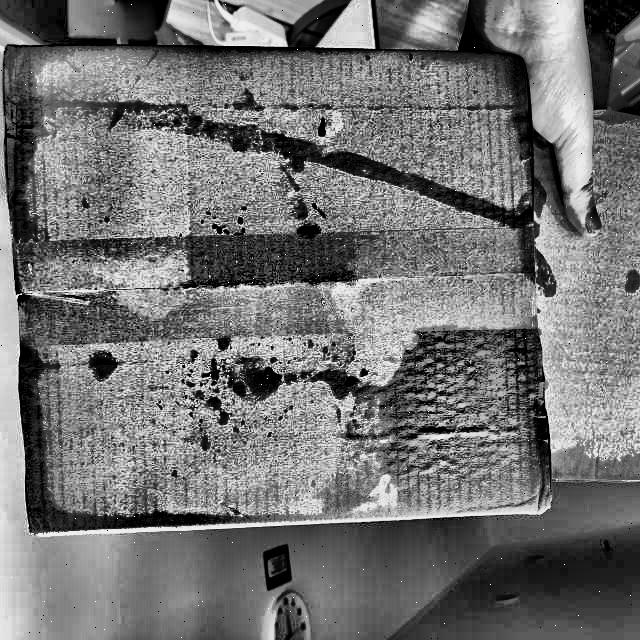box: (1, 39, 565, 545)
wet: (325, 328, 547, 513), (10, 354, 73, 548), (0, 38, 50, 256), (496, 46, 542, 246)
